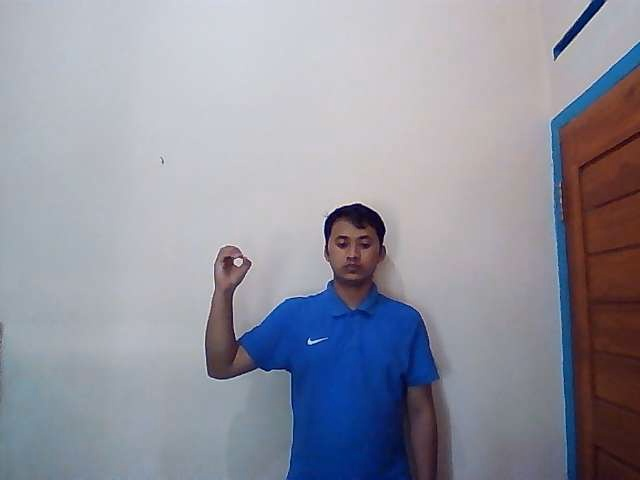O: (210, 244, 252, 290)
